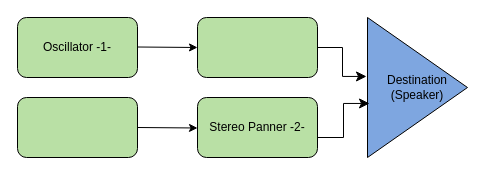
The diagram is 485 pixels wide and 175 high, and some of its shapes have lost their labels. The shapes that lost their labels are listed below. From the top down, each one's box as (x1, y1, x2, y2) in pixels, then its label:
(196, 16, 318, 78): Stereo Panner -1-
(16, 96, 138, 158): Oscillator -2-
